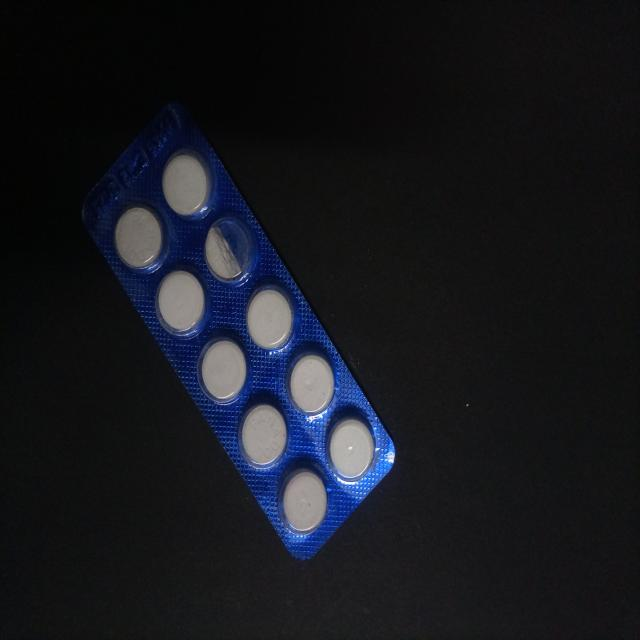defect: (202, 213, 262, 290)
